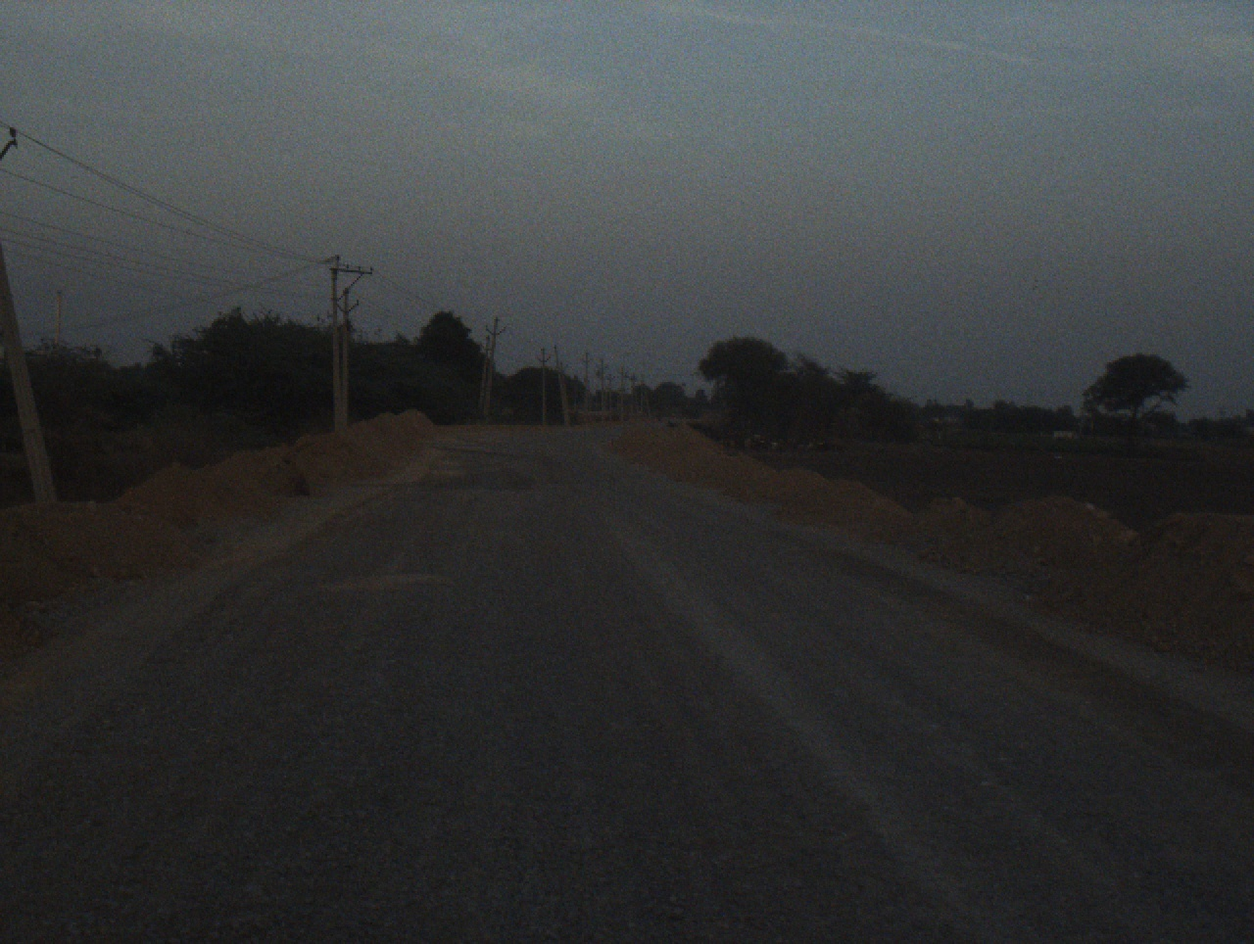animal: (767, 431, 837, 450), (726, 416, 778, 438), (674, 416, 719, 438)
